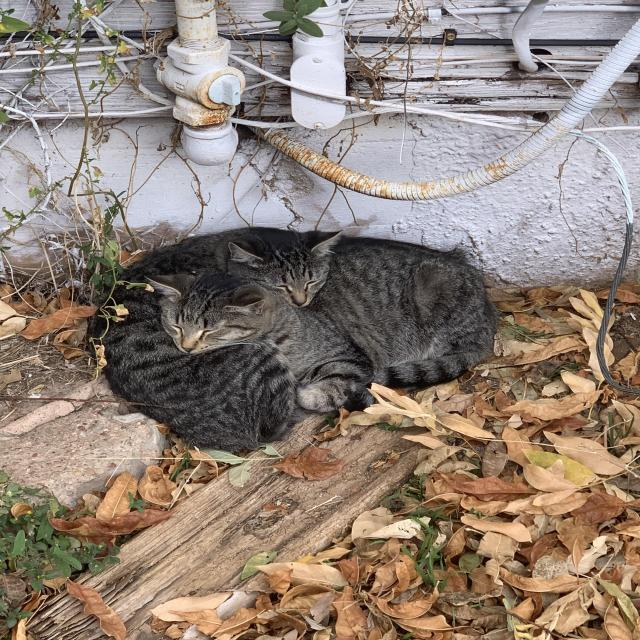cat: (150, 238, 497, 411), (88, 228, 340, 450)
